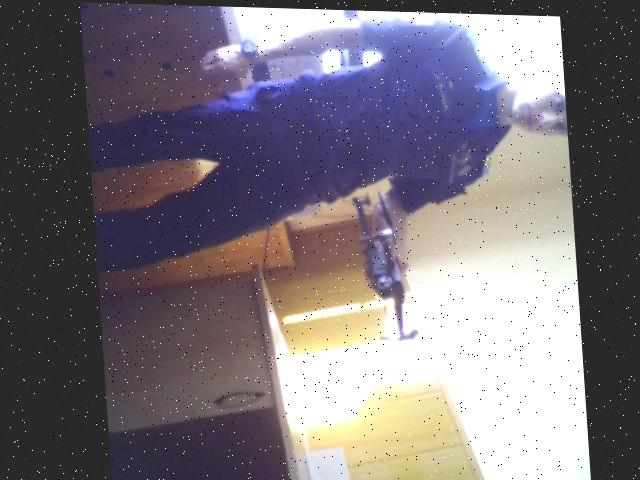drone: (339, 182, 432, 345)
